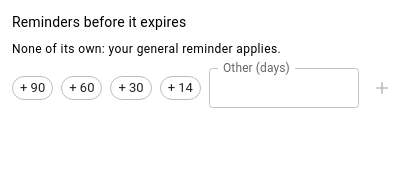
Scenario: ReminderDaysField › takes a custom number of days
Type "45" into the number field labelled "Other (days)" at x=284, y=88, box [209, 68, 359, 108]
Then press Enter
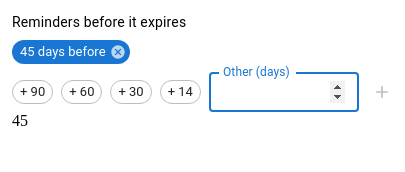
Now the text with test id "value" reads "45", box [12, 112, 28, 129]
